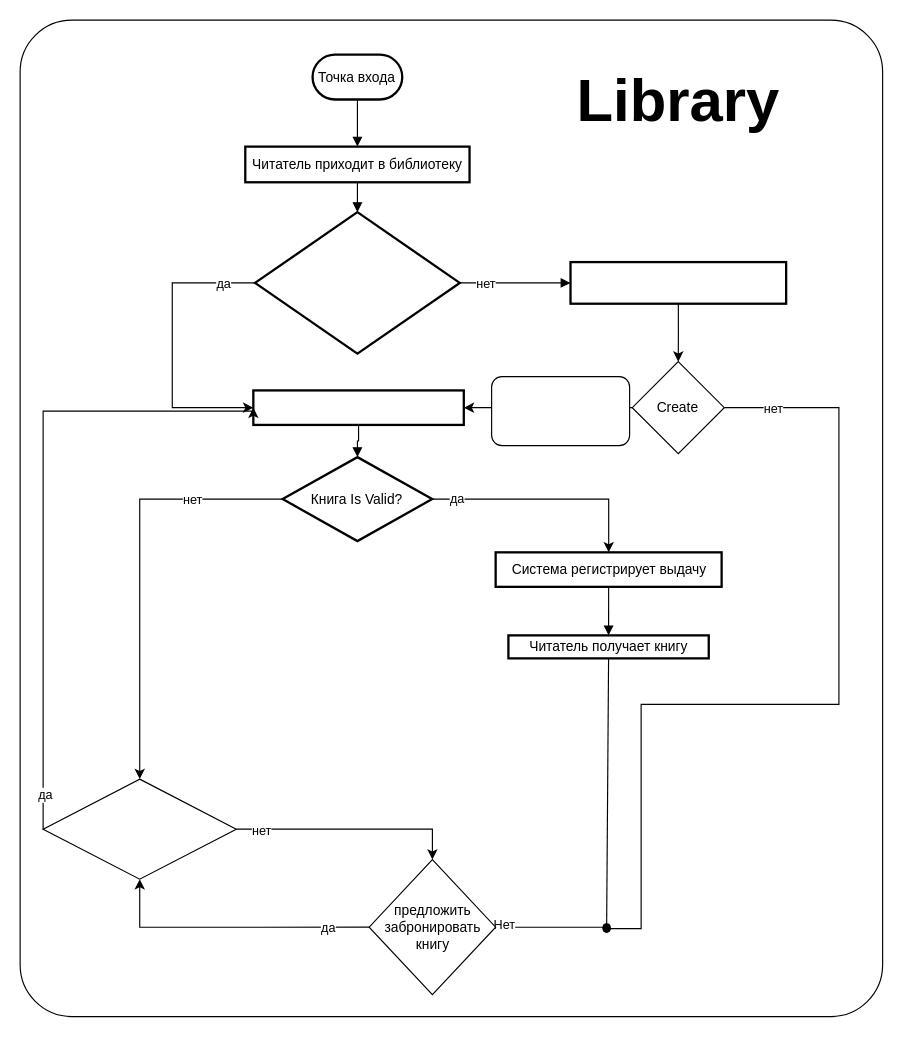
Image size: 903x1037. Some labels were removed from this diagram. The shapes that lost their labels are listed below. From the top down, each one's centre as x and y in pixels, then its label:
At point (356, 282): "Есть читательский билет?".
At point (678, 282): "Оформить читательский билет".
At point (358, 407): "Читатель выбирает книгу".
At point (139, 828): "Предложить выбрать другую книгу".
